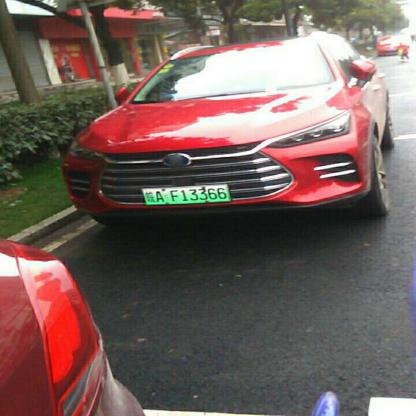lp: (140, 182, 232, 206)
